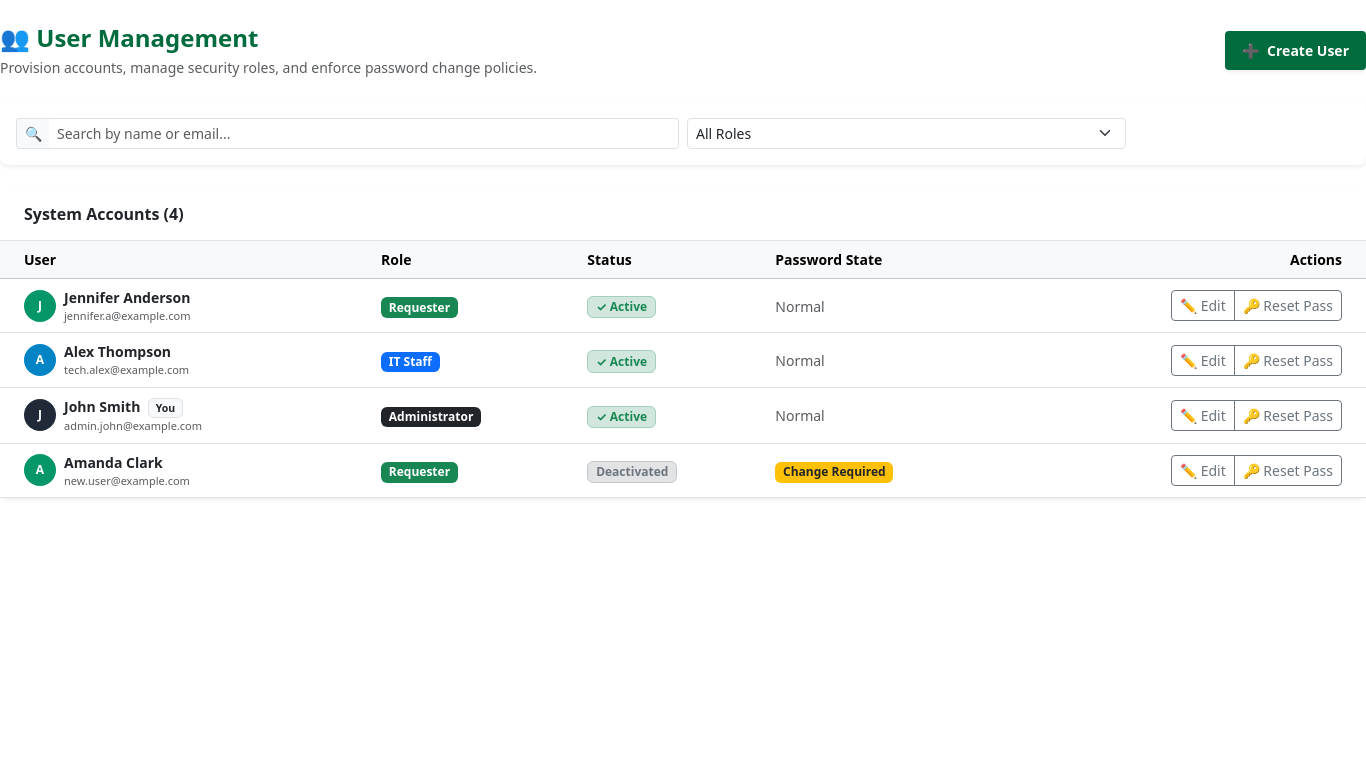
UserManagement Component (Issue 6 / UI-06 / Teacher Mockup 4) › enforces Self-Deactivation Guard in Edit User modal for currently logged-in Admin (BR-18, AC-11)
// Open edit modal for user 10 (John Smith - current user)
Step 1. Click the button with test id "edit-user-btn-10" → x=1203, y=415, box [1171,400,1235,431]
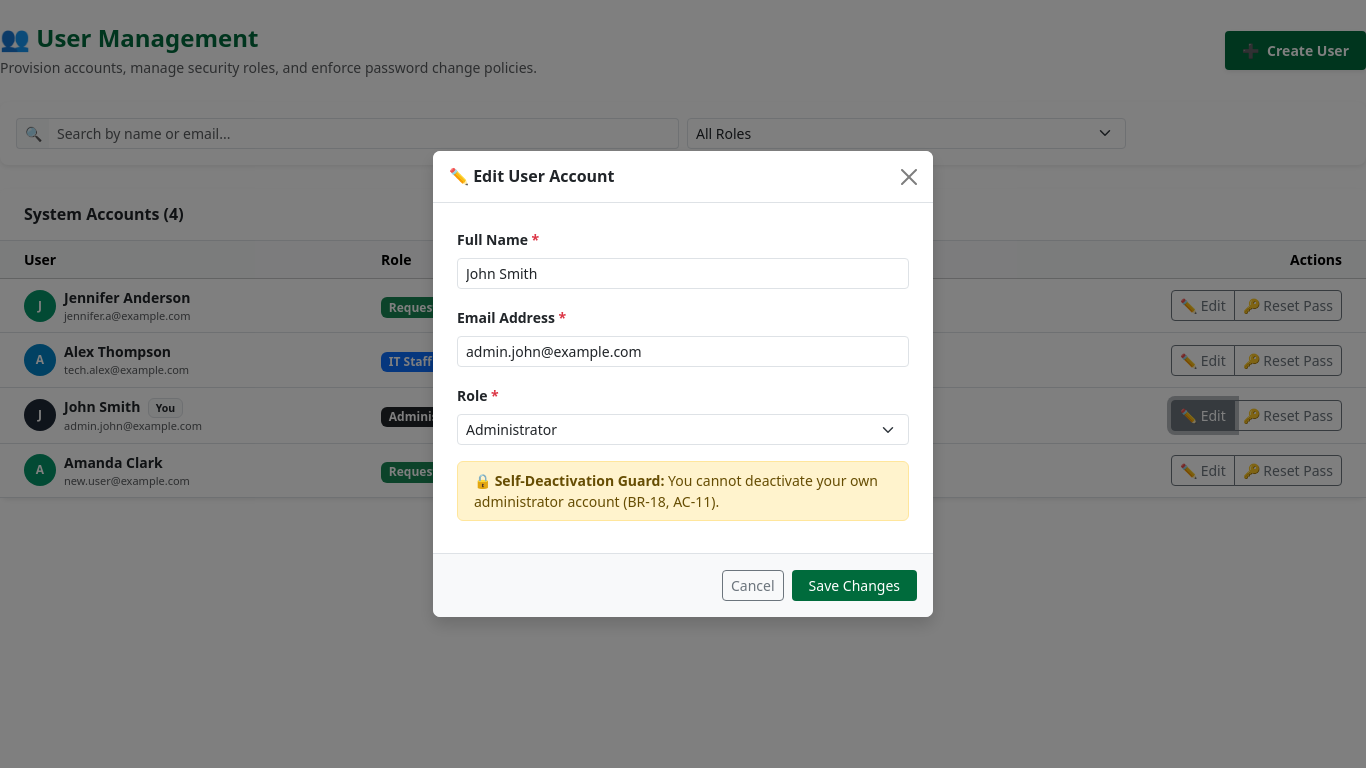
Check: the element with test id "edit-user-modal" is shown
Check: the element with test id "self-deactivation-notice" is shown, box [457,461,909,521]
Check: the text "Self-Deactivation Guard:" is shown, box [495,471,664,490]
